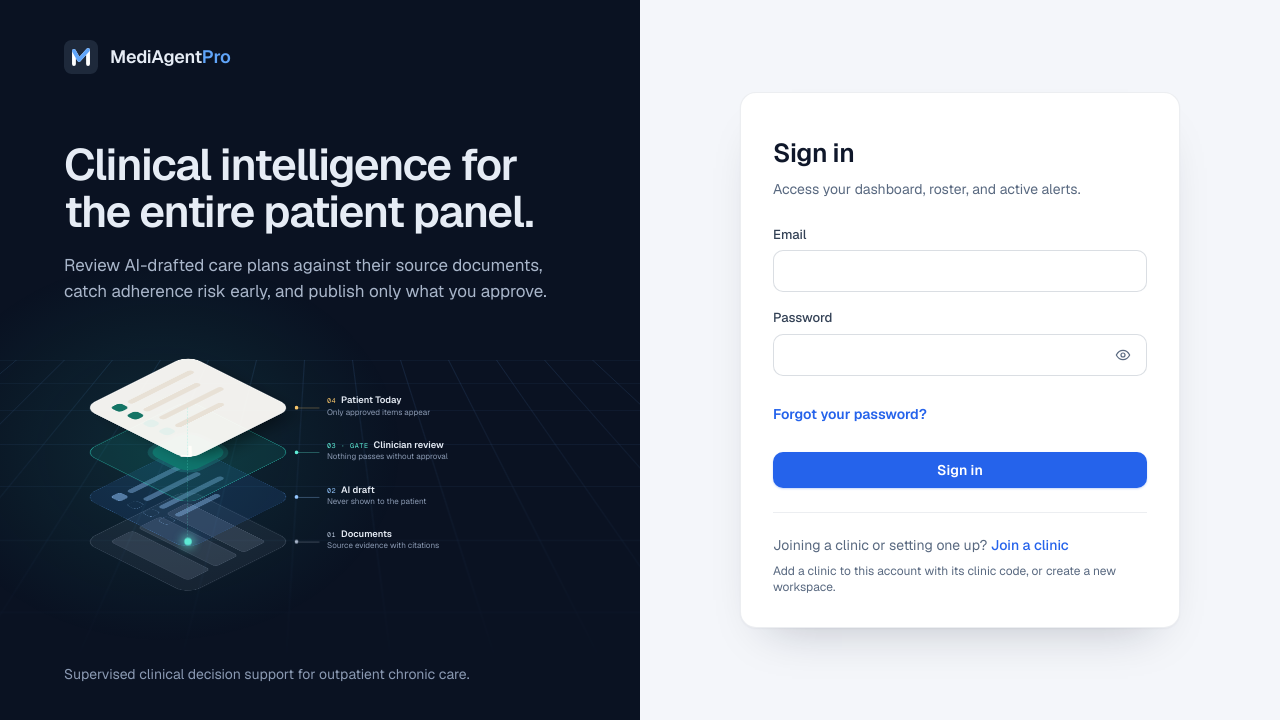
Clinician login page › toggles password visibility while typing
In the password field labelled "Password": coordinates (960, 355) left=773, top=334, right=1147, bottom=376, type "SecurePass123!"
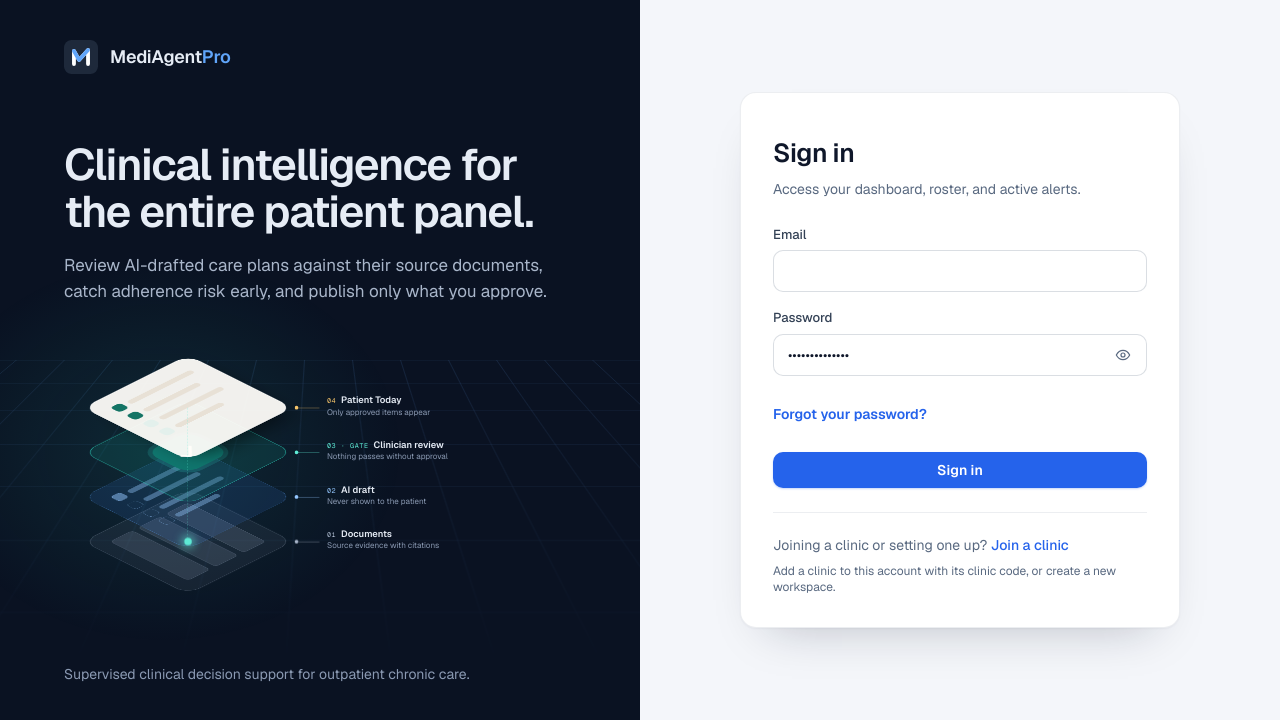
Click the button named "show password": coordinates (1123, 355) left=1107, top=339, right=1139, bottom=371
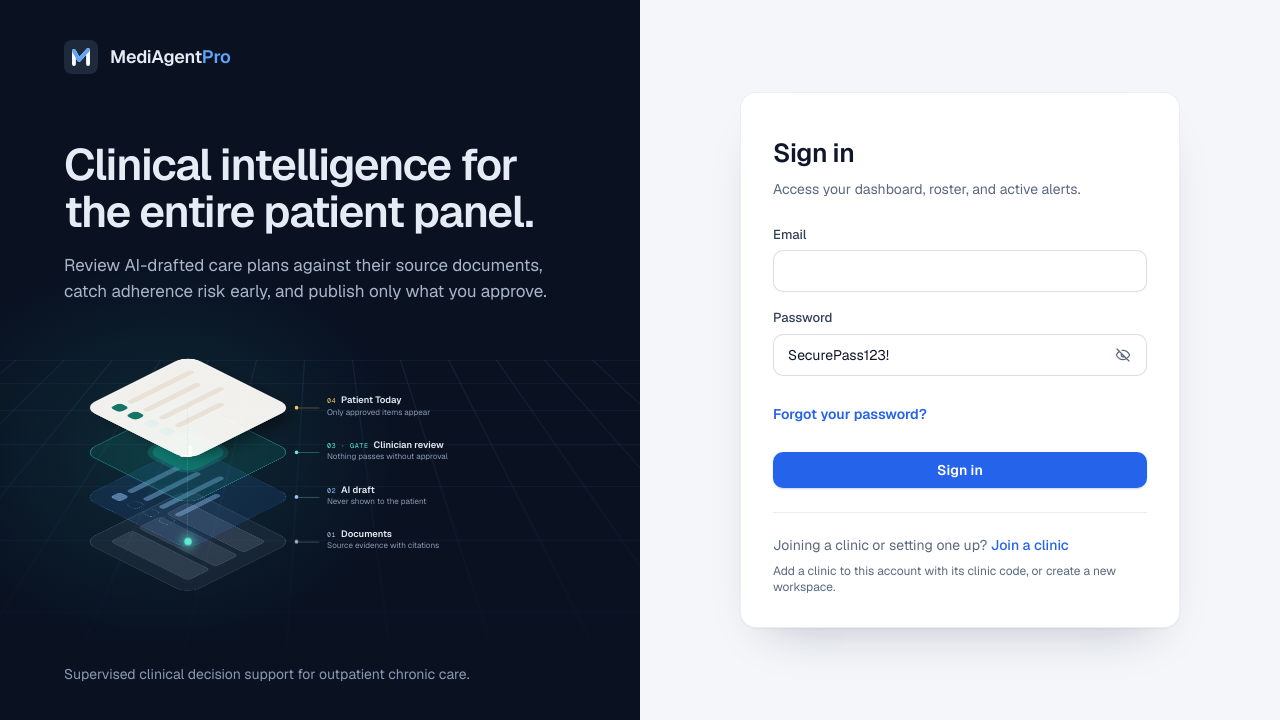
Expected: the field labelled "Password" shows its text, left=773, top=334, right=1147, bottom=376
Click the button named "hide password": coordinates (1123, 355) left=1107, top=339, right=1139, bottom=371
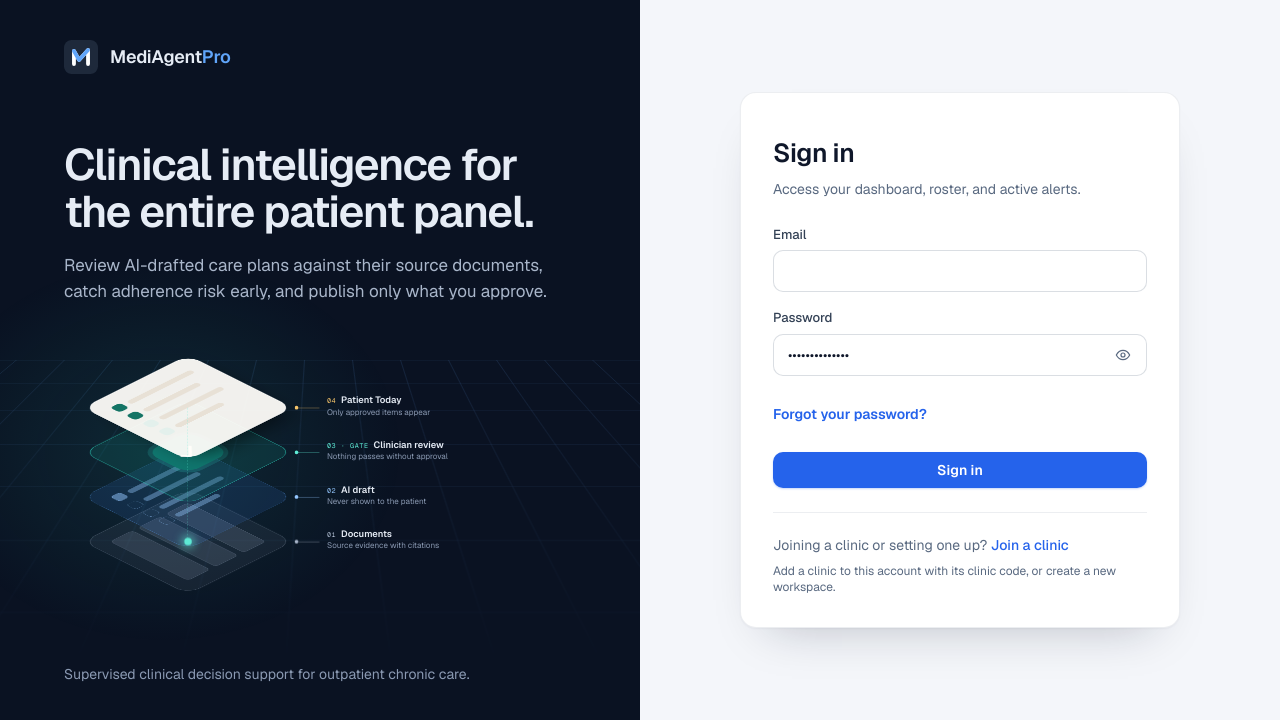
Expected: the password field labelled "Password" hides its text, left=773, top=334, right=1147, bottom=376
